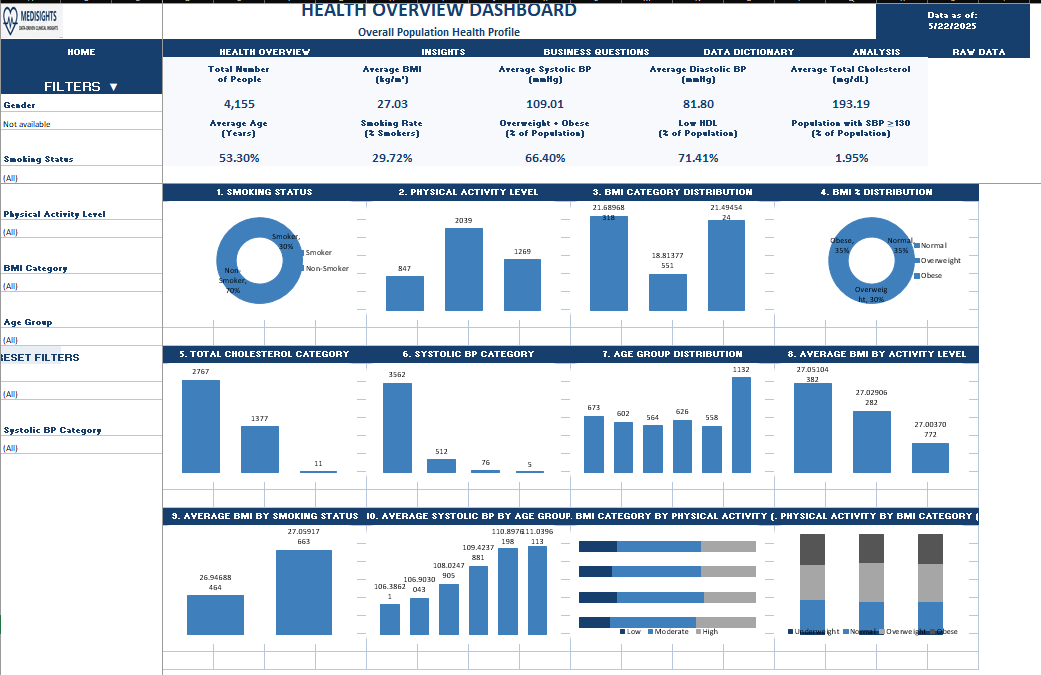

What the dashboard file says about the page in this screenshot:
{"tool":"tableau","page":{"name":"Health & Lifestyle Overview","canvas":[1900,900],"ordinal":0},"visuals":[{"type":"blank","box":[15,14,1575,69]},{"type":"image","box":[422,19,87,66]},{"type":"filter","title":"BMI Distribution","param":"[federated.07gievh1sk6lhu12t1mj60p64lb2].[none:BMI_Category:nk]","box":[498,25,267,46]},{"type":"filter","title":"Smokers vs Non-Smokers","param":"[federated.07gievh1sk6lhu12t1mj60p64lb2].[none:Smoking_Status:nk]","box":[765,25,267,46]},{"type":"filter","title":"Physical Activity Level","param":"[federated.07gievh1sk6lhu12t1mj60p64lb2].[none:Physical_Activity_Level:nk]","box":[1032,25,267,46]},{"type":"filter","title":"Blood Pressure Risk by Age","param":"[federated.07gievh1sk6lhu12t1mj60p64lb2].[none:BP_Risk_Category:nk]","box":[1299,25,267,46]},{"type":"text","box":[41,28,437,45]},{"type":"worksheet","title":"KPI_TotalPeople","mark":"Automatic","box":[21,99,315,127]},{"type":"worksheet","title":"KPI_AvgBMI","mark":"Automatic","box":[336,99,315,127]},{"type":"worksheet","title":"KPI_AvgSystolic","mark":"Automatic","box":[651,99,315,127]},{"type":"worksheet","title":"KPI_AvgDiastolic","mark":"Automatic","box":[966,99,315,127]},{"type":"worksheet","title":"KPI_AvgCholesterol","mark":"Automatic","box":[1281,99,315,127]},{"type":"image","box":[663,109,78,64]},{"type":"image","box":[980,109,78,64]},{"type":"image","box":[1296,109,72,54]},{"type":"image","param":"Image/avatar-svgrepo-com.svg","box":[36,113,62,56]},{"type":"image","box":[340,113,85,66]},{"type":"worksheet","title":"Blood Pressure Risk by Age","mark":"Pie","box":[29,246,557,261]},{"type":"worksheet","title":"Smokers vs Non-Smokers","mark":"Pie","box":[586,246,557,261]},{"type":"worksheet","title":"Cholesterol Level Distribution","mark":"Bar","rows":["Calculation_1249903698968580"],"cols":["Age"],"box":[1164,249,436,561]},{"type":"worksheet","title":"Physical Activity Level","mark":"Bar","rows":["Physical_Activity_Level"],"cols":["Age"],"box":[35,514,554,294]},{"type":"worksheet","title":"BMI Distribution","mark":"Bar","rows":["BMI_Category"],"cols":["Age"],"box":[589,514,554,294]}]}

Visuals, with their boxes on the page's 1900x900 design canvas (x1, y1, x2, y2). These are canvas units, not pixel positions in the 1041x675 screenshot, which may show the page scaled, cropped or inside an application window:
blank: [x1=15, y1=14, x2=1590, y2=83]
image: [x1=422, y1=19, x2=509, y2=85]
"BMI Distribution" filter: [x1=498, y1=25, x2=765, y2=71]
"Smokers vs Non-Smokers" filter: [x1=765, y1=25, x2=1032, y2=71]
"Physical Activity Level" filter: [x1=1032, y1=25, x2=1299, y2=71]
"Blood Pressure Risk by Age" filter: [x1=1299, y1=25, x2=1566, y2=71]
text: [x1=41, y1=28, x2=478, y2=73]
"KPI_TotalPeople" worksheet: [x1=21, y1=99, x2=336, y2=226]
"KPI_AvgBMI" worksheet: [x1=336, y1=99, x2=651, y2=226]
"KPI_AvgSystolic" worksheet: [x1=651, y1=99, x2=966, y2=226]
"KPI_AvgDiastolic" worksheet: [x1=966, y1=99, x2=1281, y2=226]
"KPI_AvgCholesterol" worksheet: [x1=1281, y1=99, x2=1596, y2=226]
image: [x1=663, y1=109, x2=741, y2=173]
image: [x1=980, y1=109, x2=1058, y2=173]
image: [x1=1296, y1=109, x2=1368, y2=163]
image: [x1=36, y1=113, x2=98, y2=169]
image: [x1=340, y1=113, x2=425, y2=179]
"Blood Pressure Risk by Age" worksheet (Pie marks): [x1=29, y1=246, x2=586, y2=507]
"Smokers vs Non-Smokers" worksheet (Pie marks): [x1=586, y1=246, x2=1143, y2=507]
"Cholesterol Level Distribution" worksheet (Bar marks): [x1=1164, y1=249, x2=1600, y2=810]
"Physical Activity Level" worksheet (Bar marks): [x1=35, y1=514, x2=589, y2=808]
"BMI Distribution" worksheet (Bar marks): [x1=589, y1=514, x2=1143, y2=808]
